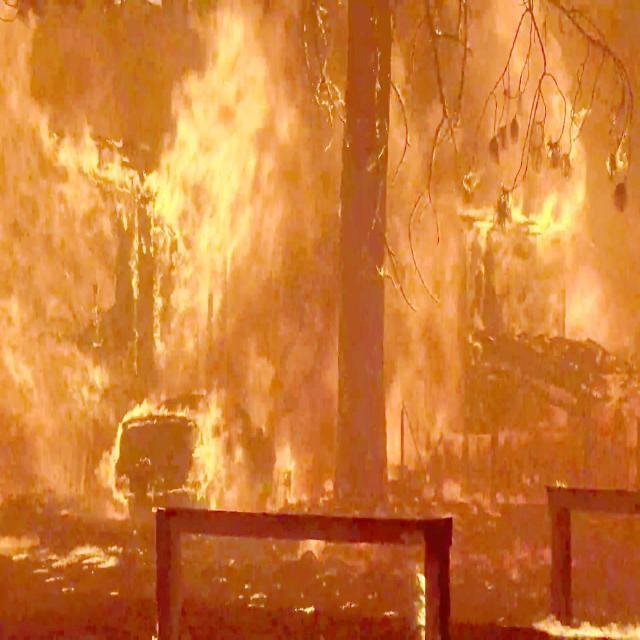Fire: (166, 20, 284, 306), (0, 143, 104, 464), (88, 393, 244, 499), (498, 132, 596, 296)
